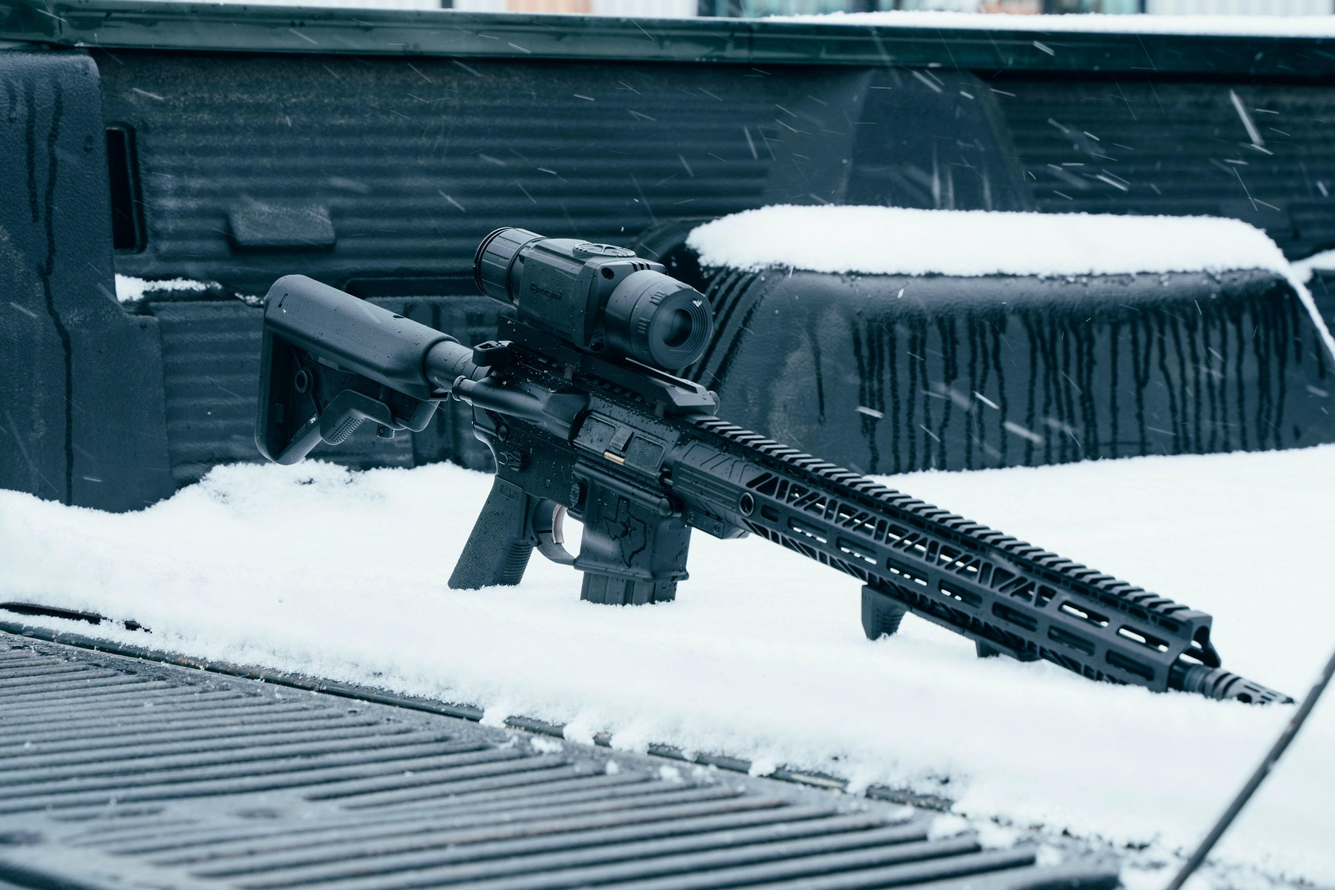larga: (251, 223, 1302, 709)
